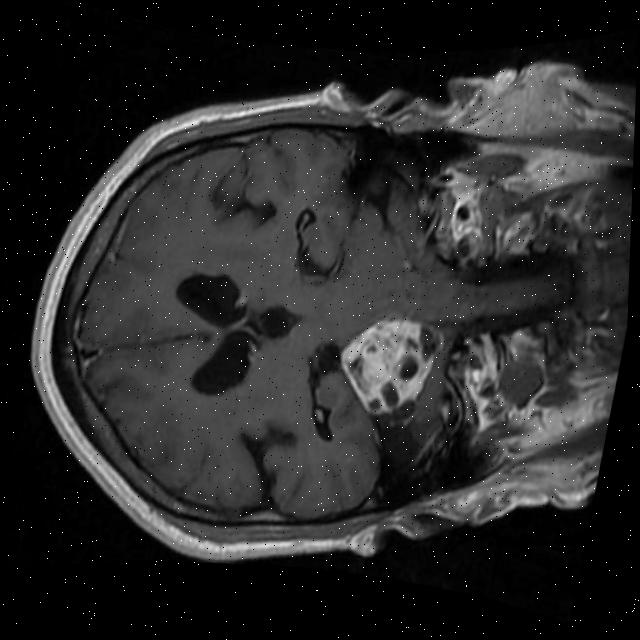Meningioma: (326, 304, 444, 425)
